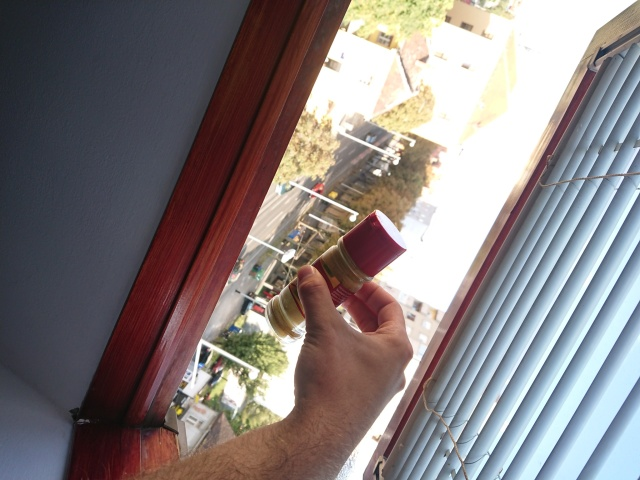Kotanyi Curry Spices Mix 70g: (263, 207, 411, 348)
